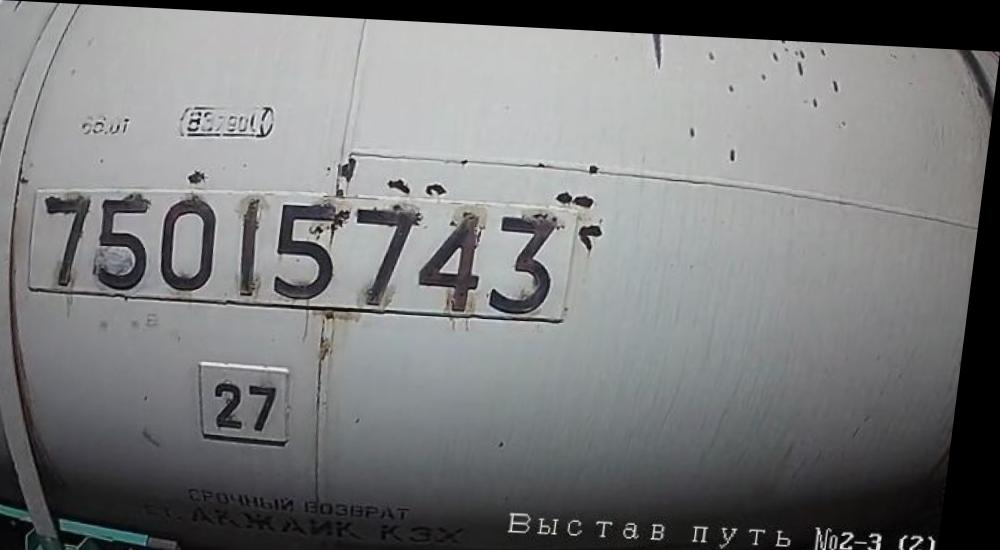Wagon-number: (36, 181, 568, 313)
